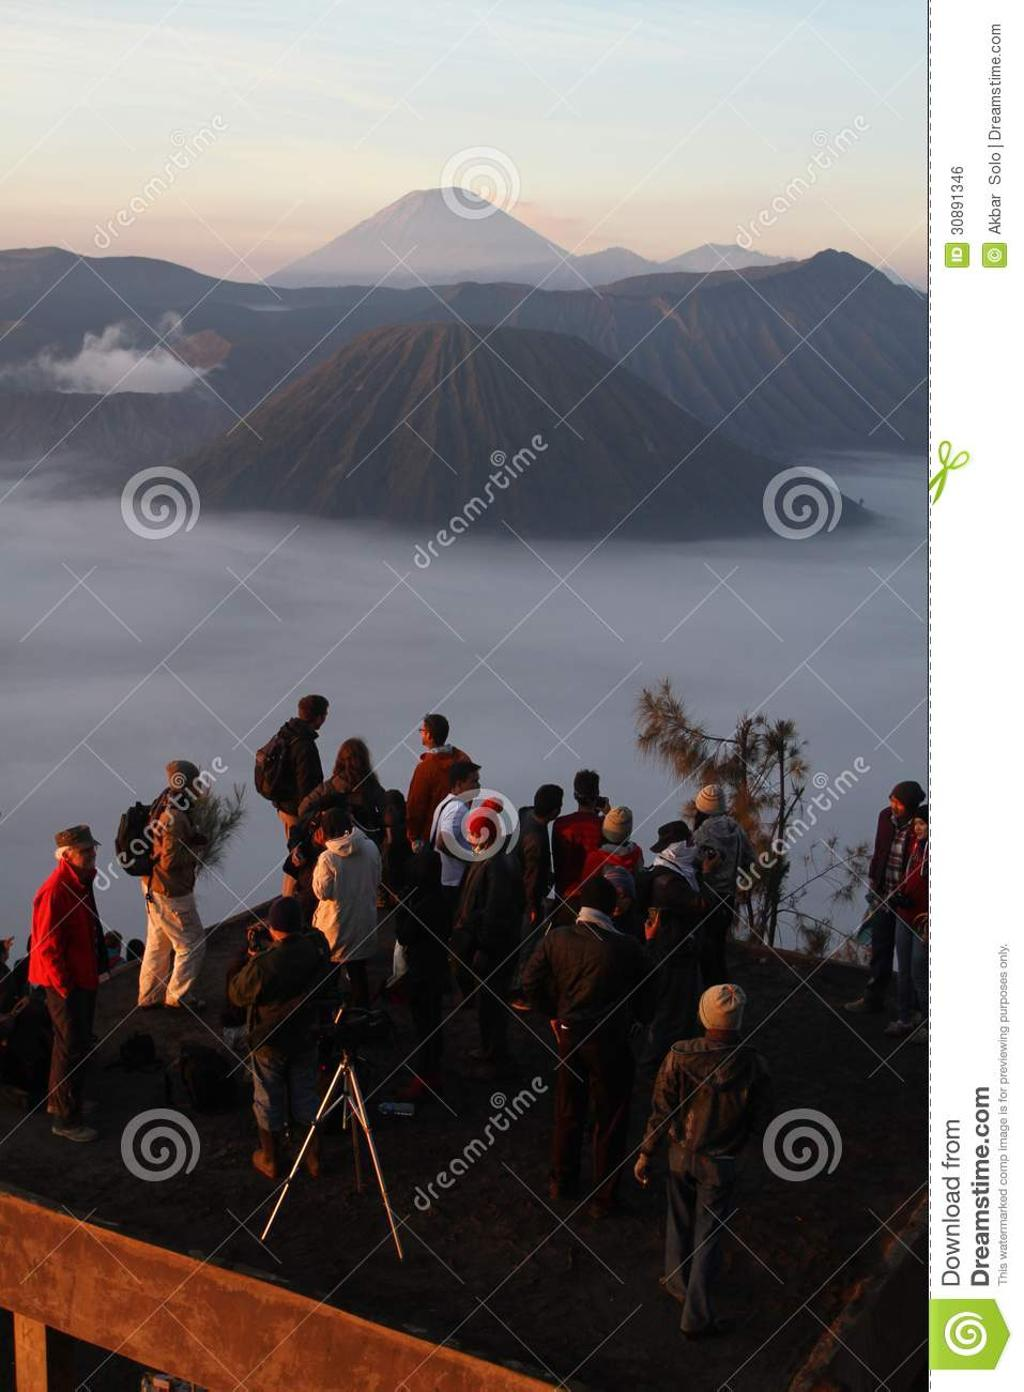face: (71, 844, 96, 870), (465, 771, 481, 797), (188, 774, 202, 797), (890, 794, 904, 816), (914, 817, 927, 839), (315, 707, 327, 729), (269, 918, 282, 938), (420, 723, 429, 745), (551, 800, 560, 817)
